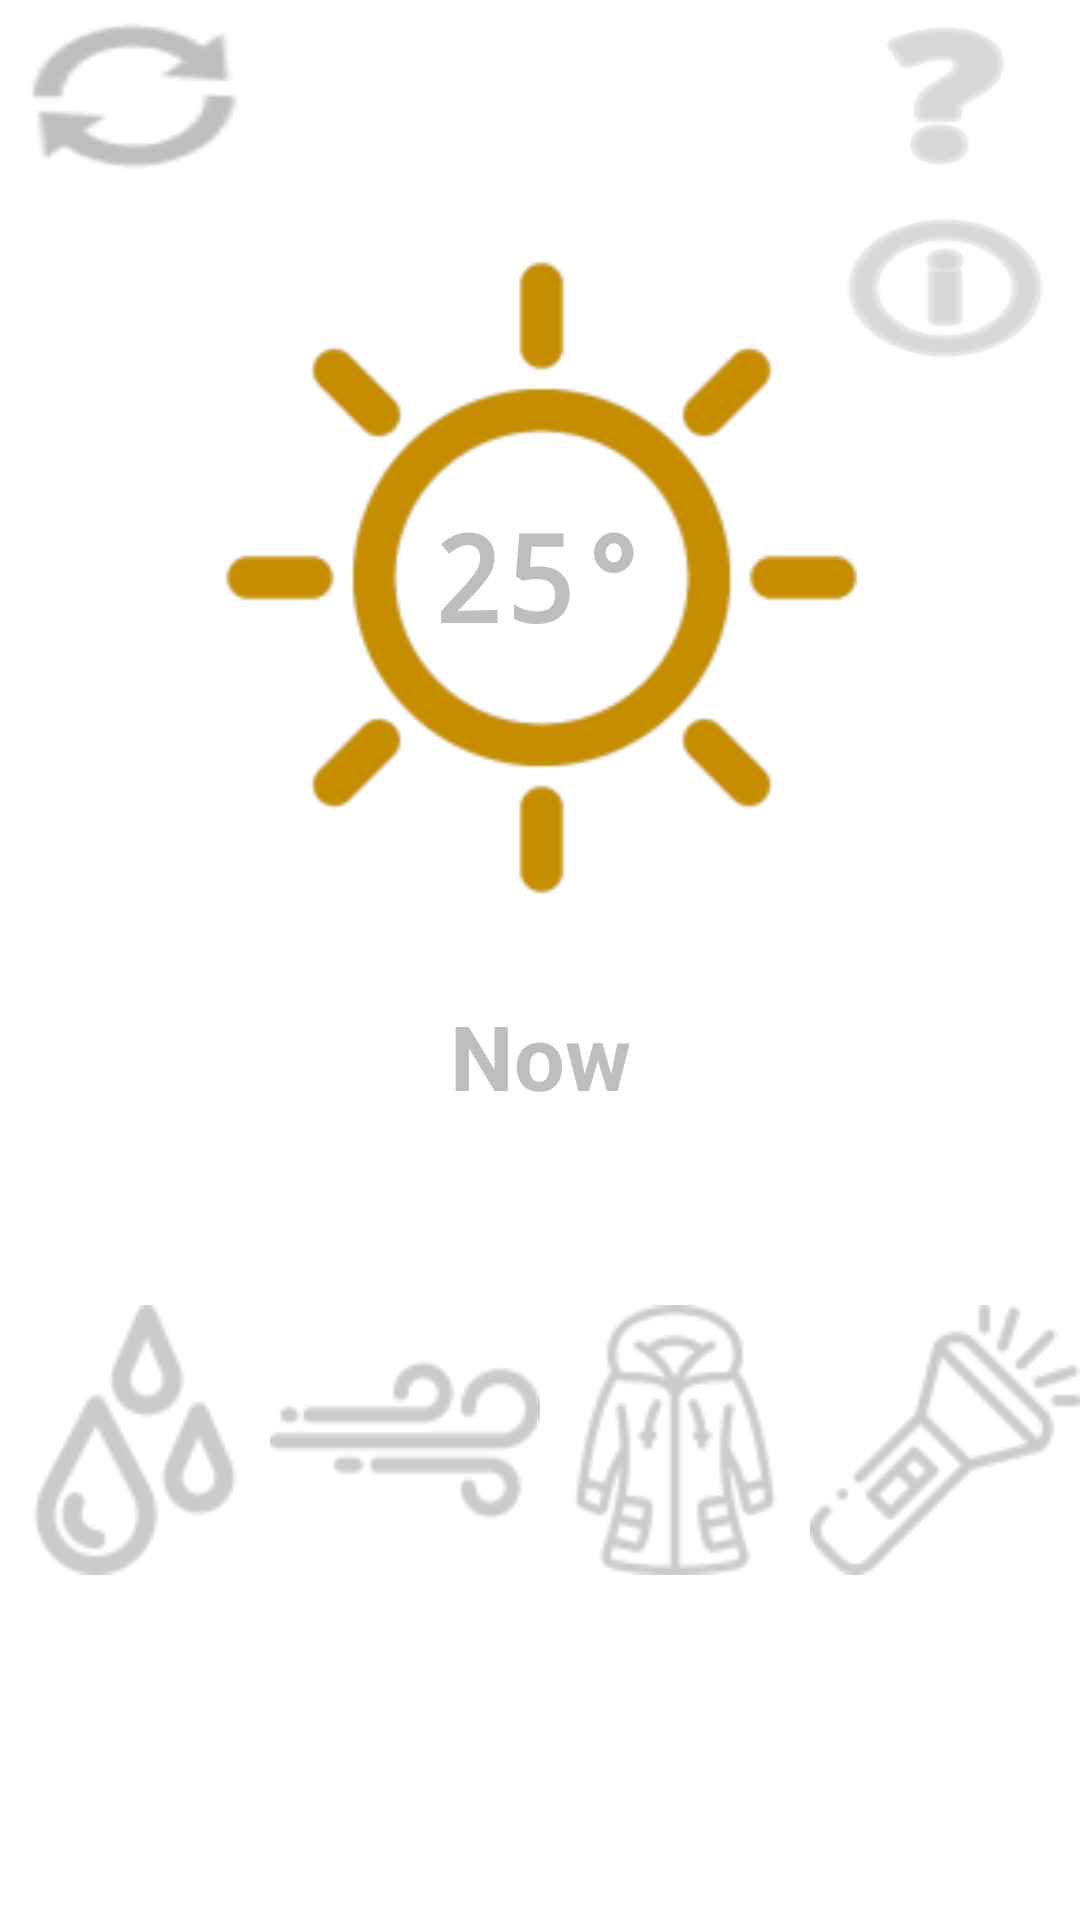

Icon bounding boxes for this 1080 × 1920 phone screenshot, format region(x1, y1, x2, y2):
coat indicator: region(577, 1305, 773, 1575)
help: region(890, 29, 1001, 163)
info details: region(850, 221, 1039, 355)
popup sync: region(33, 26, 235, 166)
rain indicator: region(36, 1305, 234, 1575)
wind indicator: region(270, 1364, 540, 1517)
